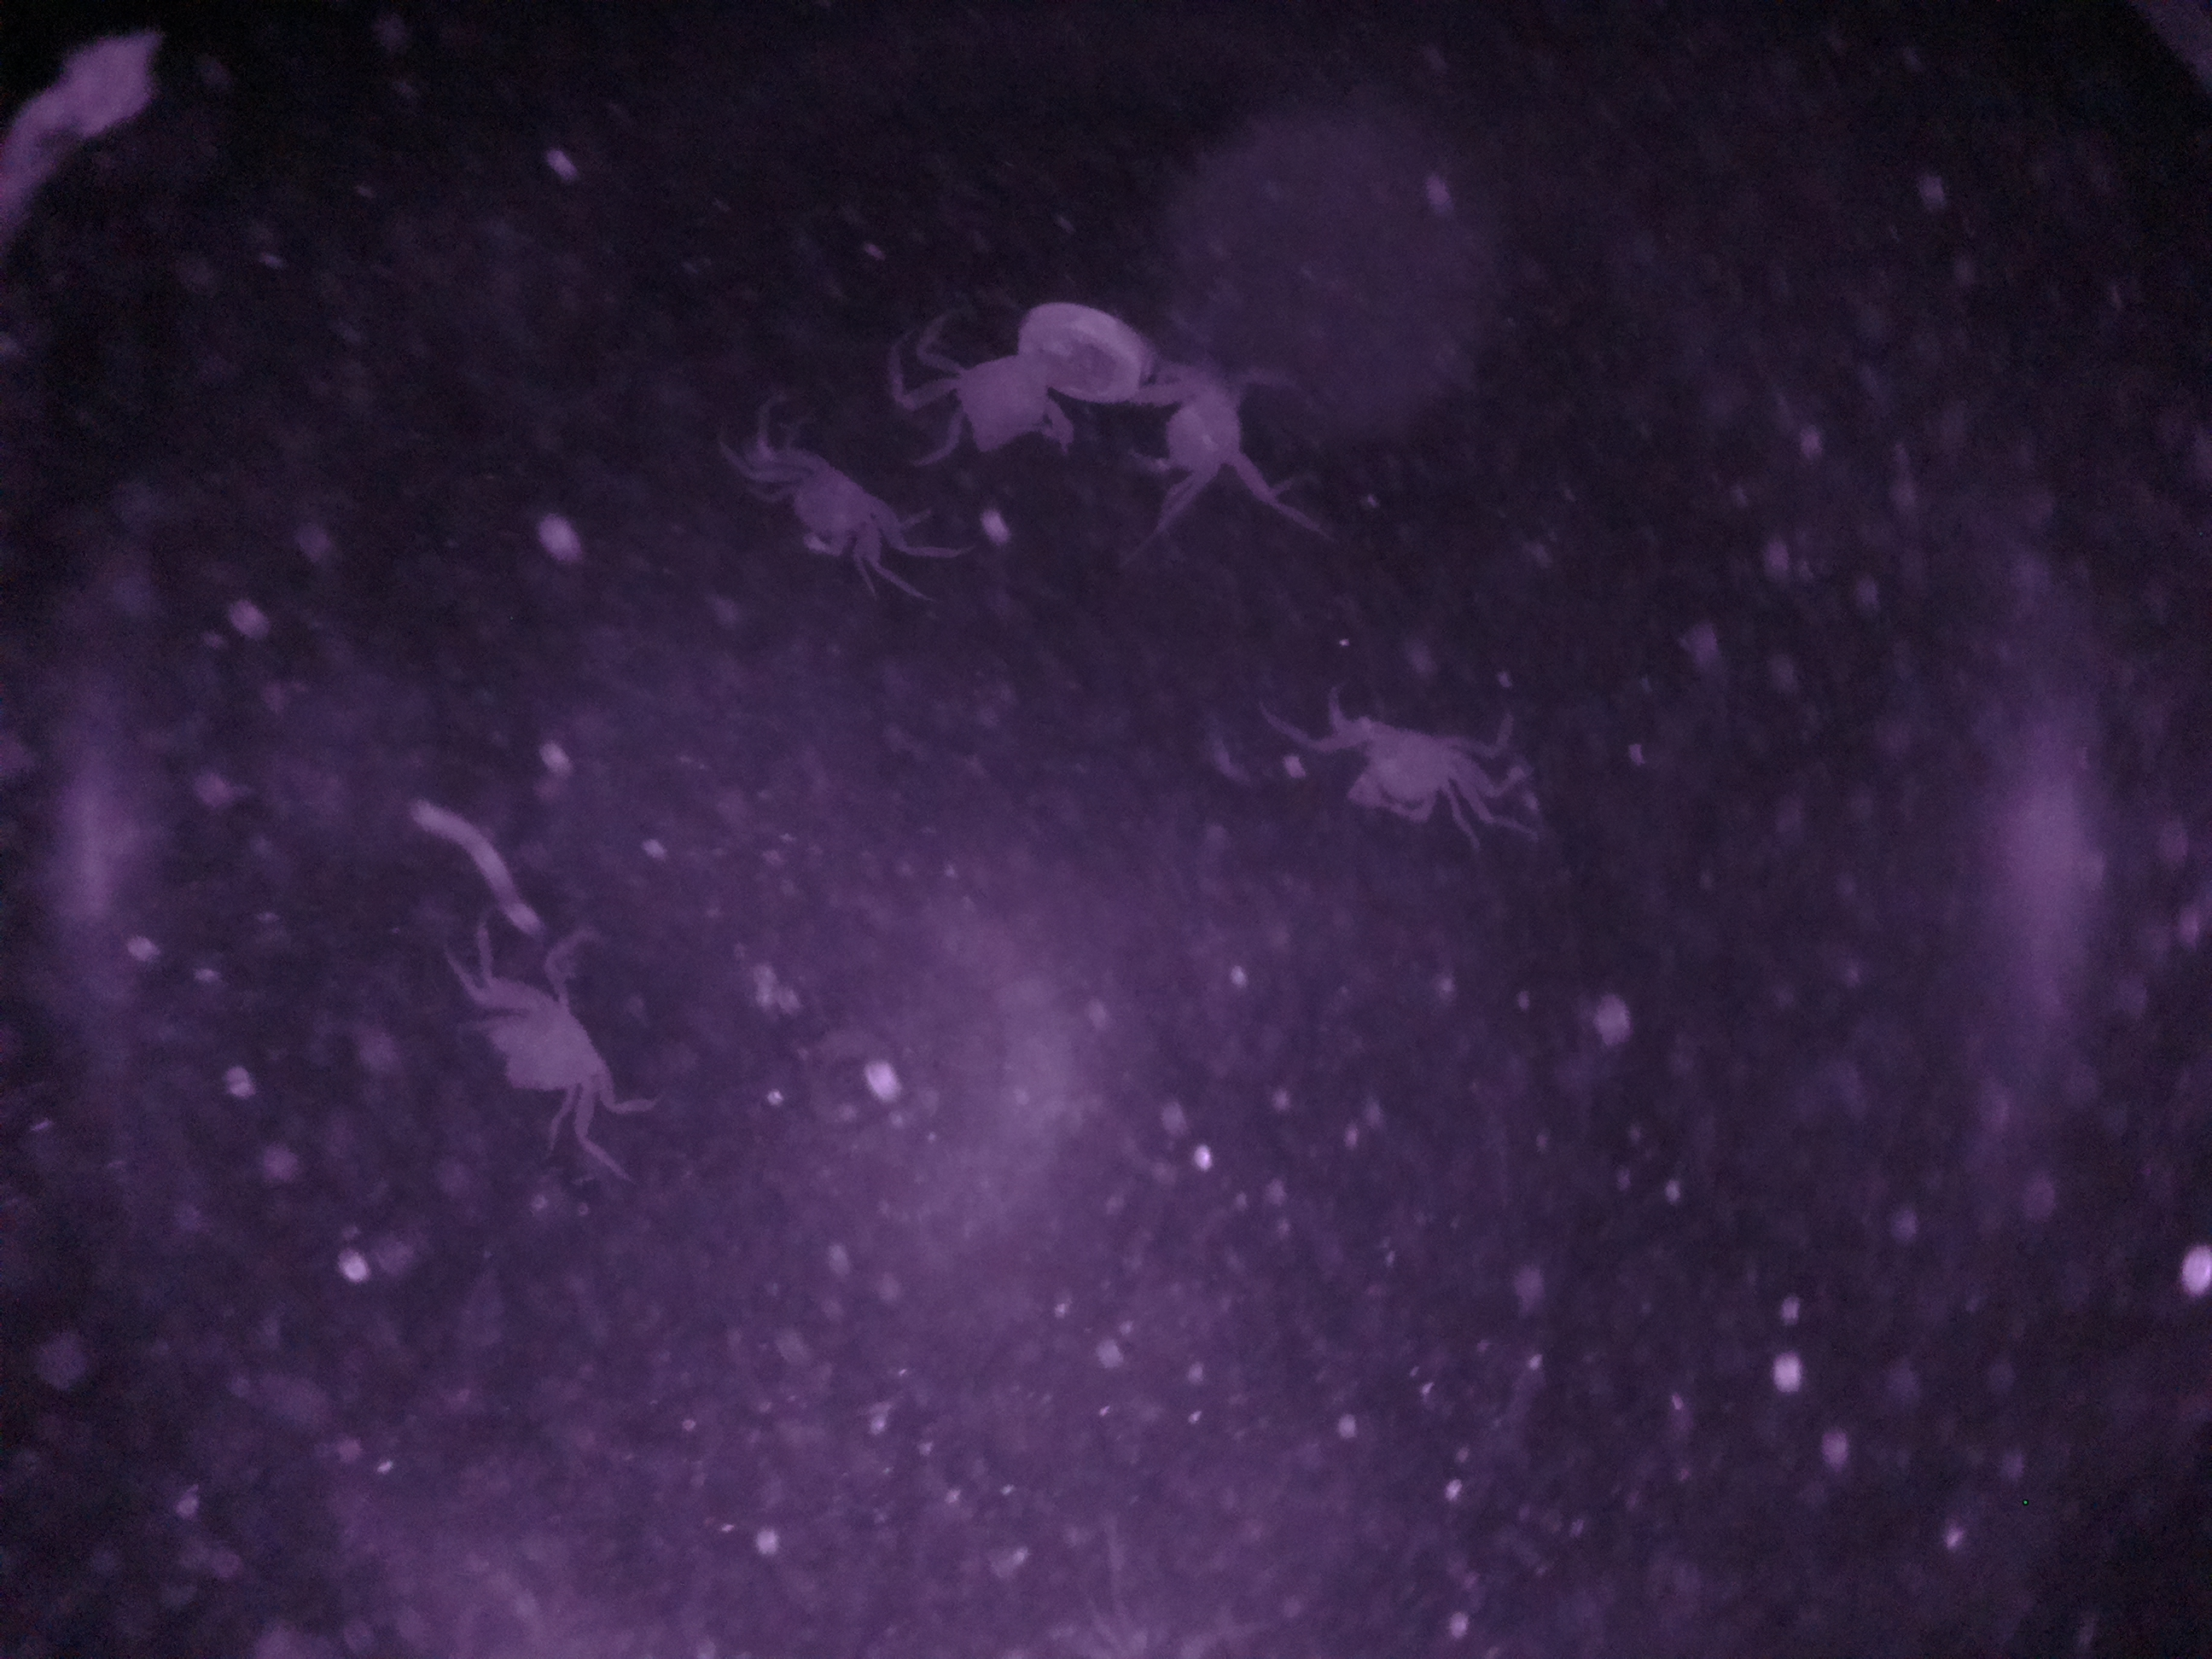Crab: (456, 953, 641, 1133), (749, 432, 942, 596), (1303, 709, 1501, 828)
